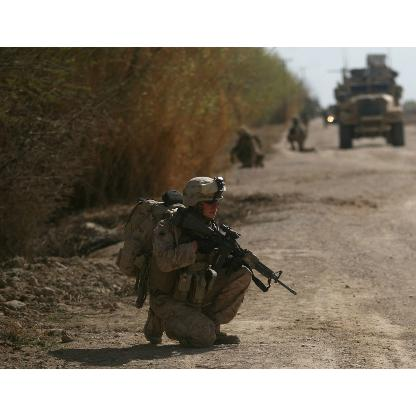gun: (179, 219, 297, 305)
